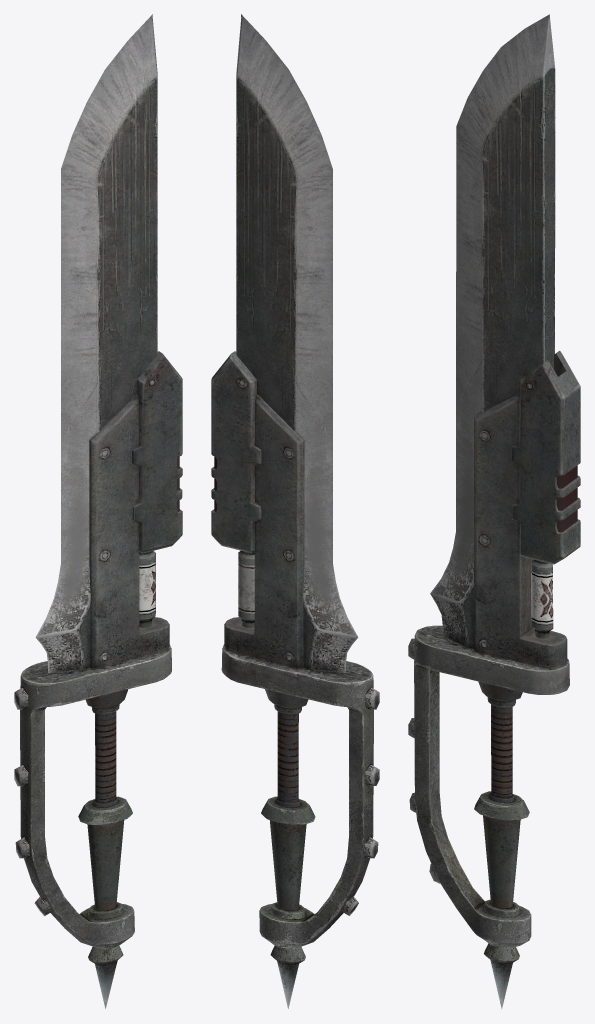
Rendered from bs_caxe001.obj.
3 renders of one model, left to right at view 1: azimuth 30°, elevation 25°; view 2: azimuth 150°, elevation 25°; view 3: azimuth 330°, elevation 25°, orthographic. The views are drawn at different scales.
Visible parts, largest first — view 1: bs_caxe001_001_LOD_1, bs_caxe001_000_LOD_1; view 2: bs_caxe001_001_LOD_1, bs_caxe001_000_LOD_1; view 3: bs_caxe001_001_LOD_1, bs_caxe001_000_LOD_1.
Boxes of the visible parts, x1,y1,x2,y2 form: bs_caxe001_001_LOD_1: (14,14,182,948); bs_caxe001_000_LOD_1: (88,945,123,1008); bs_caxe001_001_LOD_1: (211,14,379,948); bs_caxe001_000_LOD_1: (270,945,305,1008); bs_caxe001_001_LOD_1: (408,14,580,947); bs_caxe001_000_LOD_1: (484,943,519,1009).
Bounding box in the file's own units: 43.98 × 263 × 12.59.
